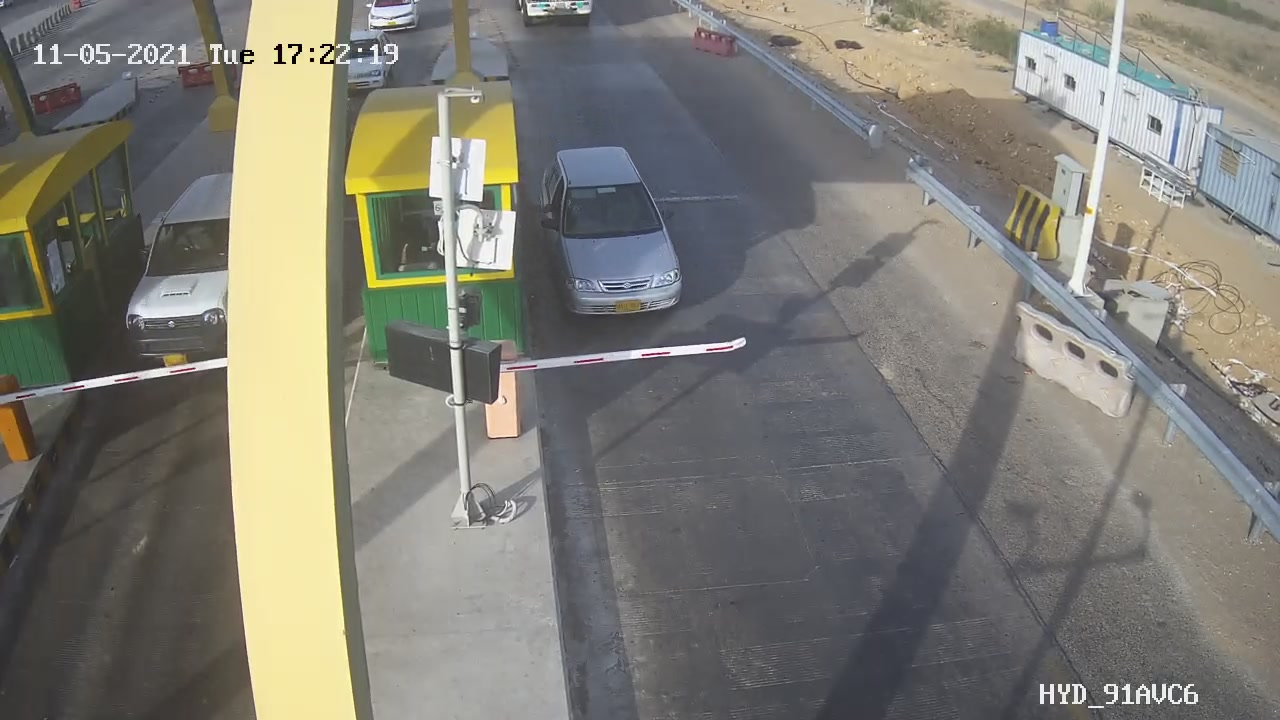F1: (521, 138, 701, 329)
